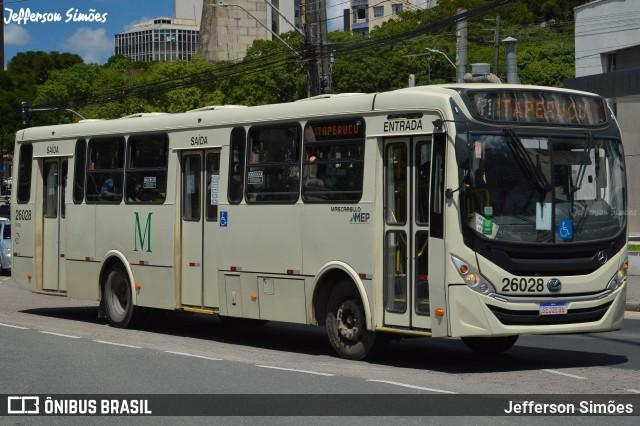ITAPERUCU: (491, 92, 594, 127)
